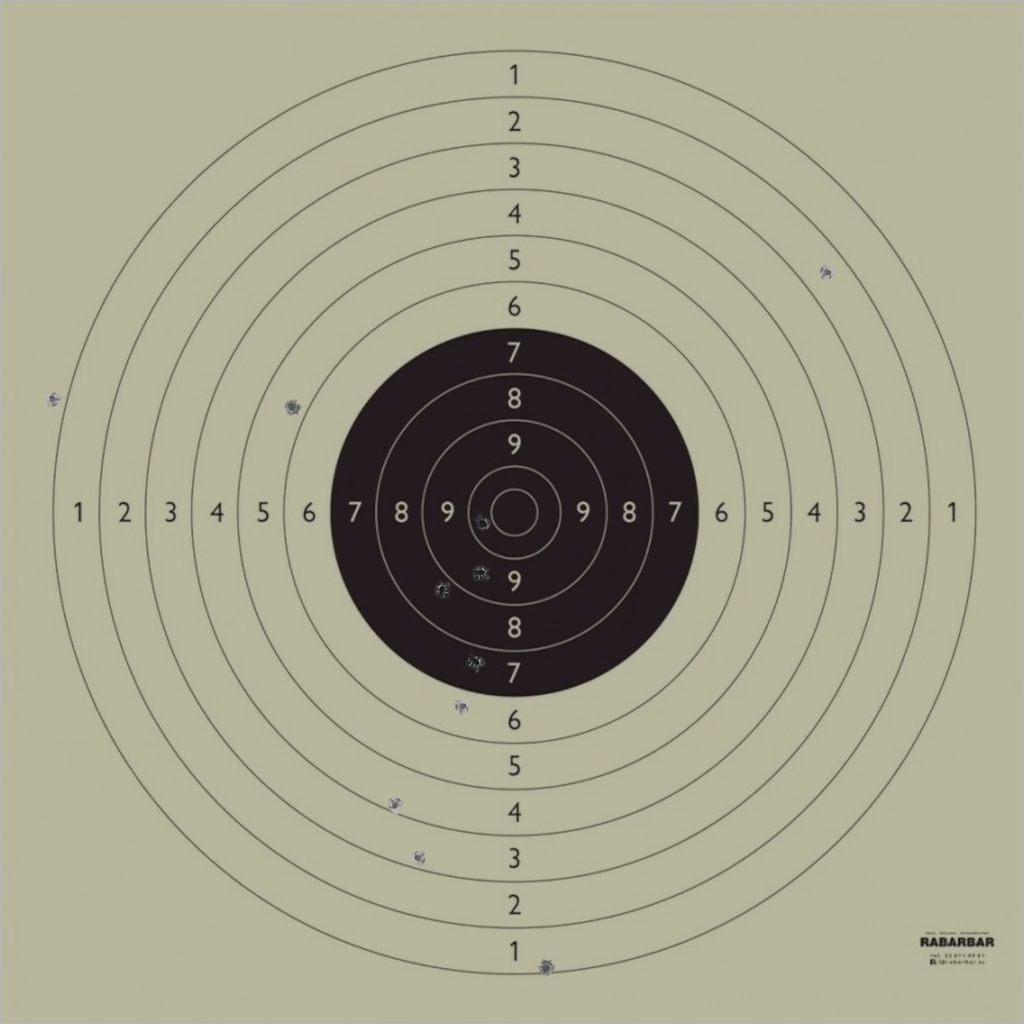0 punktow: (43, 390, 62, 408)
1 punkt: (537, 959, 555, 977)
10 punktow: (474, 514, 492, 533)
2 punkty: (818, 263, 837, 282)
3 punkty: (409, 849, 427, 867)
4 punkty: (386, 796, 404, 814)
5 punktow: (283, 398, 301, 416)
6 punktow: (454, 697, 472, 716)
7 punktow: (466, 653, 485, 671)
8 punktow: (433, 580, 452, 599)
9 punktow: (472, 564, 491, 582)
